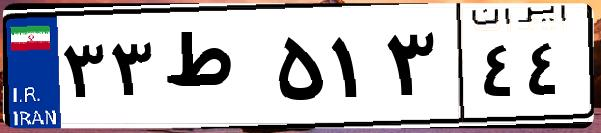1: (330, 28, 385, 110)
3: (385, 28, 445, 110), (57, 26, 110, 100), (110, 28, 158, 98)
4: (475, 38, 525, 113), (525, 38, 570, 115)
5: (270, 28, 330, 110)
ط: (158, 20, 270, 120)
